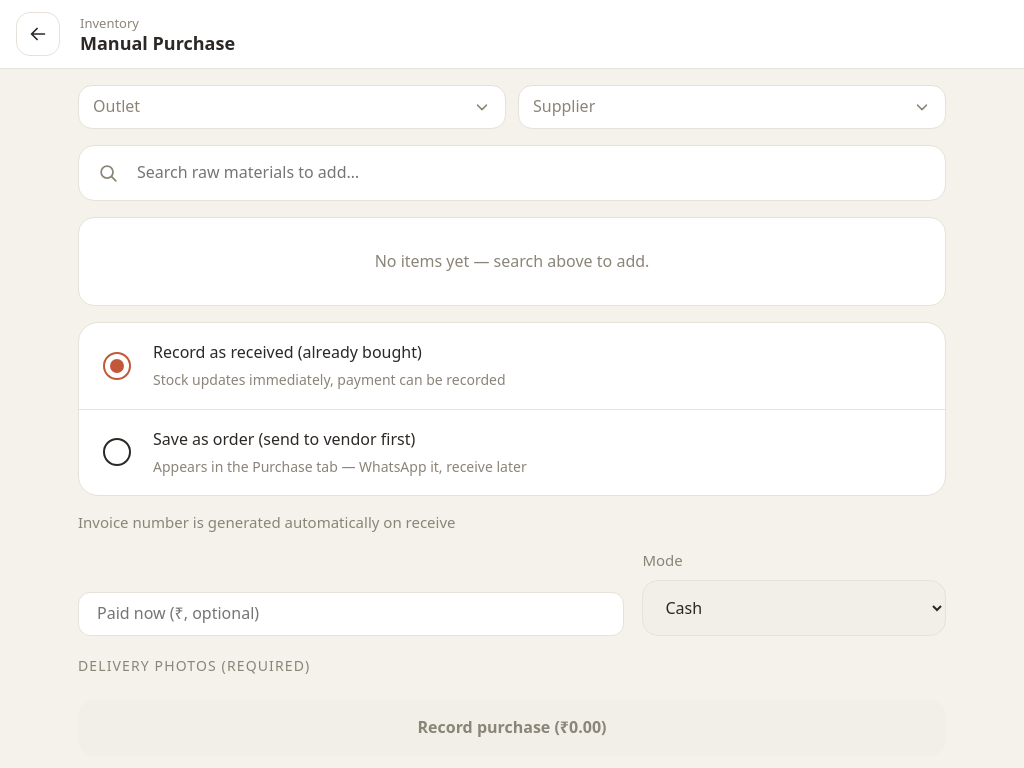
it: Manual Purchase screen › MPW-4. finds a supplier by what it is known for
Click the button with aria-label "Supplier: none chosen".
click(564, 106)  # box [518,85,946,129]
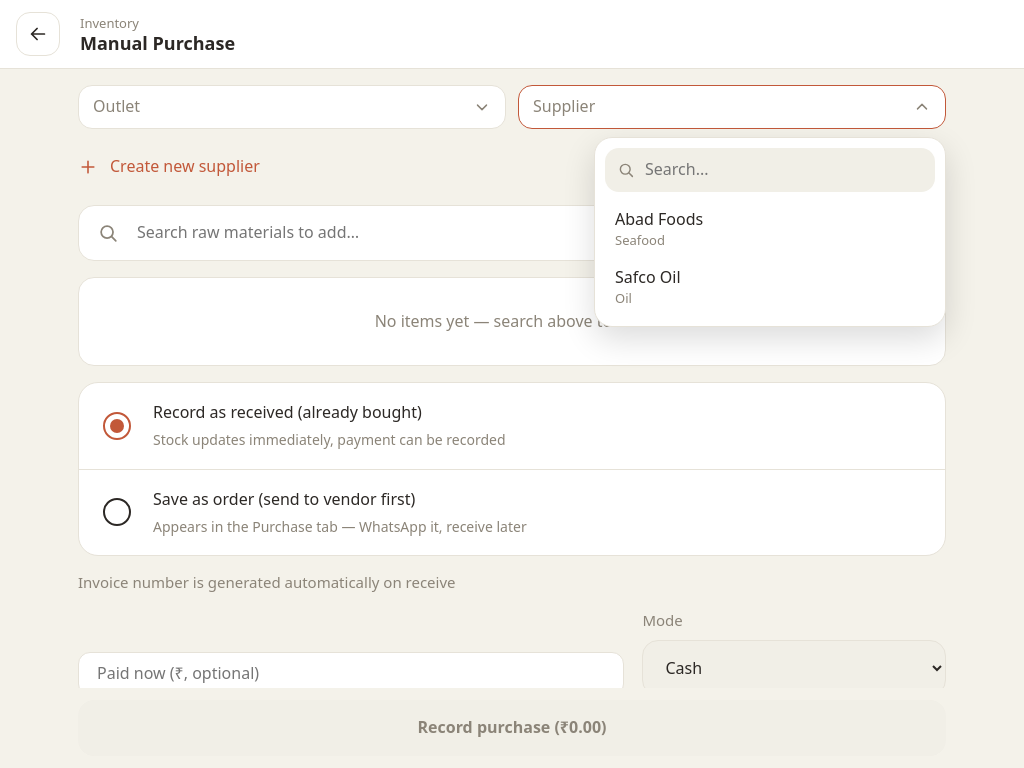
Type "seafood" into the search field with placeholder "Search...".
click(783, 170); type("seafood")  # box [643,148,923,192]
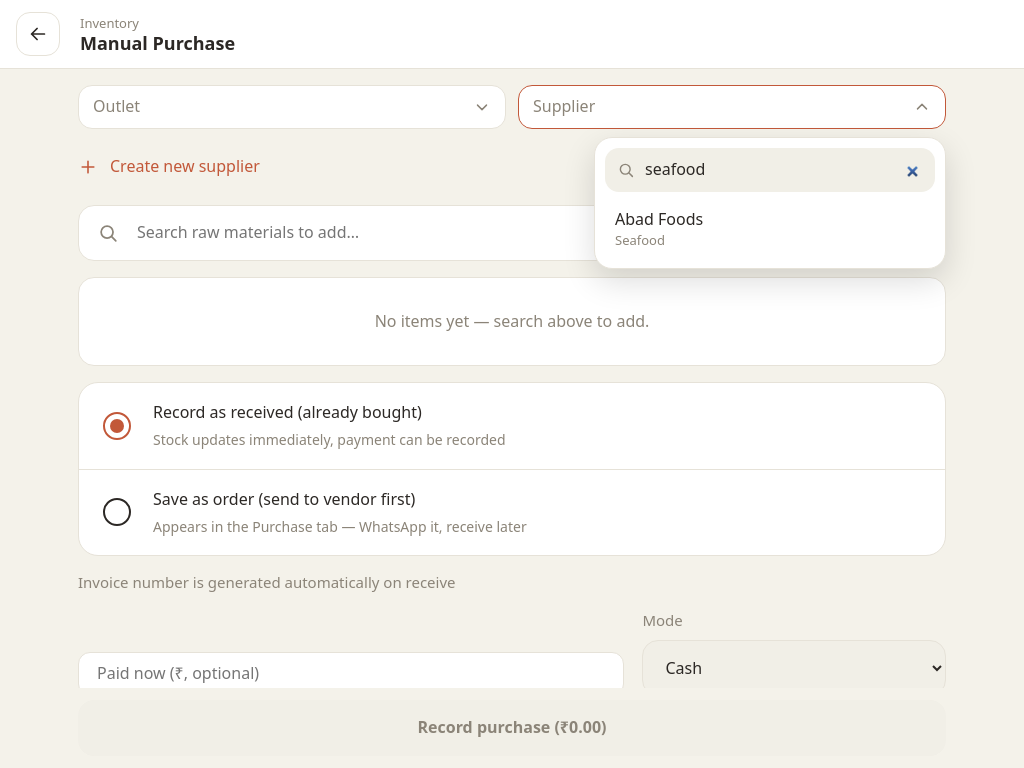
Expected: the text "Abad Foods" is shown, [615,208,703,230]
Expected: the button "Safco Oil" is gone
